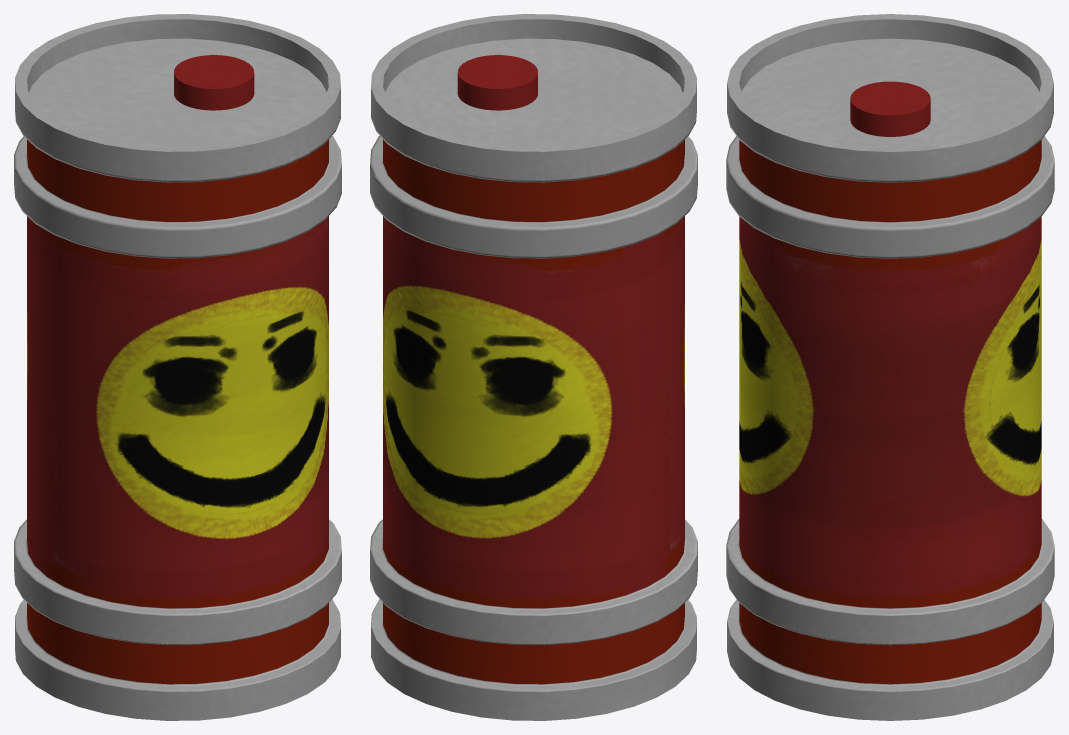
Rendered from metal barrel.fbx.
3 views of the same model, side by side, from view 1: azimuth 30°, elevation 25°; view 2: azimuth 150°, elevation 25°; view 3: azimuth 270°, elevation 25° (orthographic).
Parts seen in each view (by area): view 1: Cylinder; view 2: Cylinder; view 3: Cylinder.
Boxes of the visible parts, x1,y1,x2,y2 form: Cylinder: (14,14,341,720); Cylinder: (370,14,697,720); Cylinder: (726,14,1054,720).
Bounding box in the file's own units: 59 × 113 × 59.
Materials: 1 (1 with a texture image).
